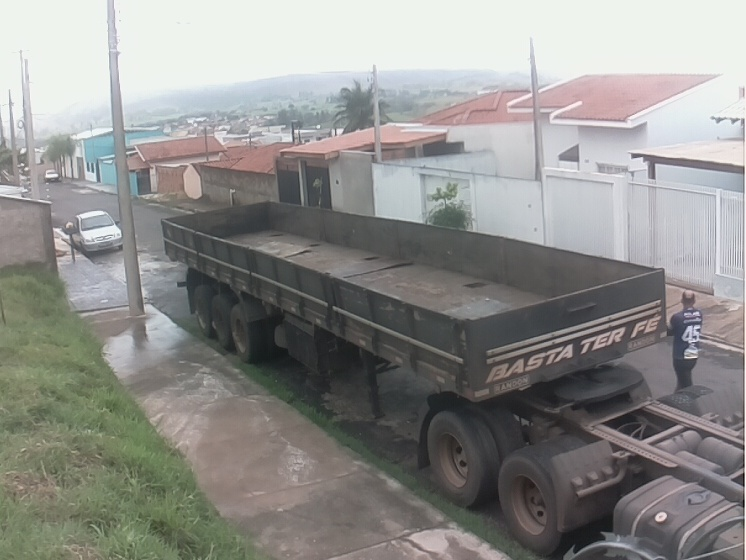person: (665, 290, 705, 396)
